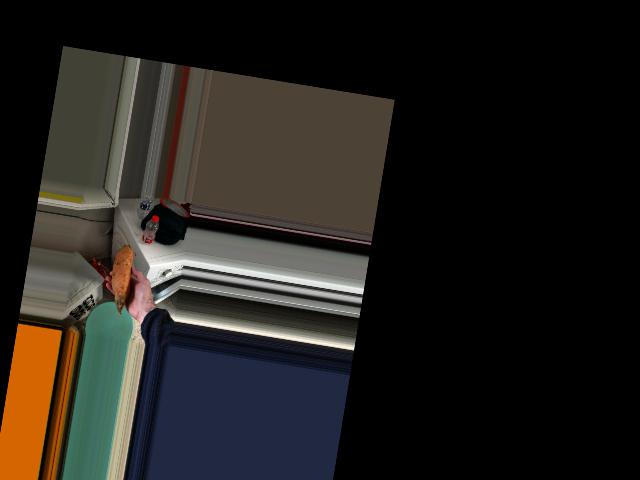sweet_potato: (108, 237, 141, 301)
